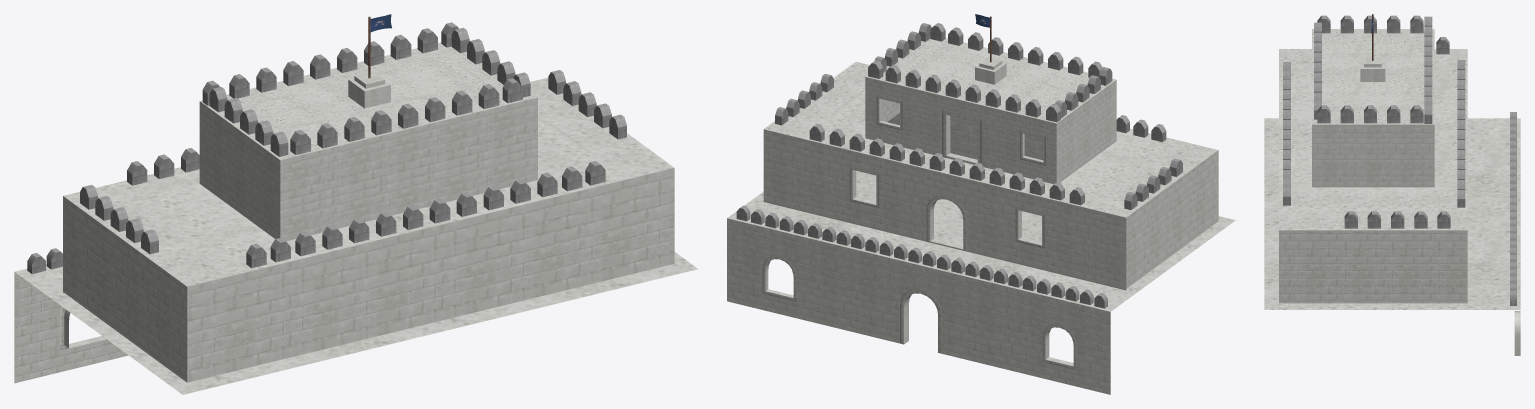
The model's file is castle_interior.obj.
The picture shows the model from 3 angles, left to right: view 1: azimuth 30°, elevation 25°; view 2: azimuth 150°, elevation 25°; view 3: azimuth 270°, elevation 25°; orthographic projection. The views are drawn at different scales.
Parts seen in each view (by area): view 1: Castle_Interior_Untitled.003; view 2: Castle_Interior_Untitled.003; view 3: Castle_Interior_Untitled.003.
Boxes of the visible parts, x1,y1,x2,y2 form: Castle_Interior_Untitled.003: (14,14,697,394); Castle_Interior_Untitled.003: (727,14,1235,394); Castle_Interior_Untitled.003: (1264,14,1520,355).
Bounding box in the file's own units: 0.4104 × 0.2846 × 0.232.
